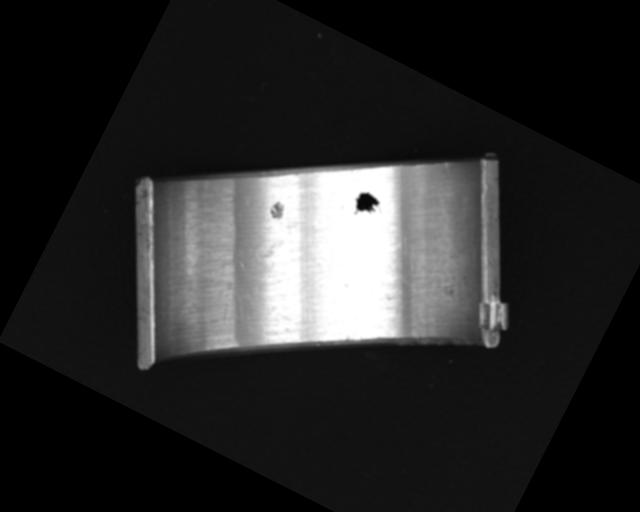blot: (349, 188, 388, 225)
bruise: (265, 198, 289, 223)
nick: (441, 159, 455, 175)
